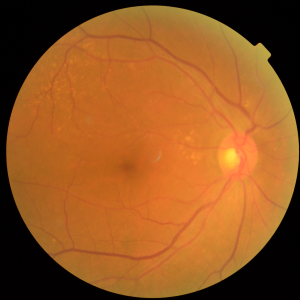retina_disease: (83, 94, 260, 184)
